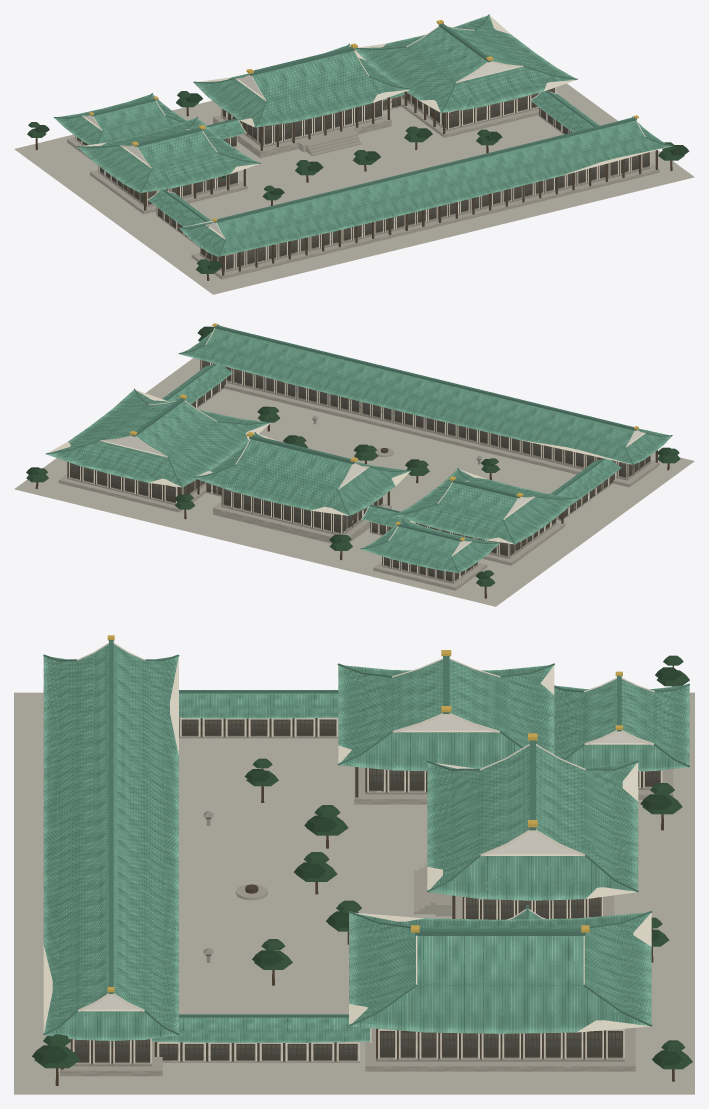
Rendered from imperial_palace_kyuden.glb.
3 views of the same model, one above another, from view 1: azimuth 30°, elevation 25°; view 2: azimuth 150°, elevation 25°; view 3: azimuth 270°, elevation 25° (orthographic). The views are drawn at different scales.
Parts seen in each view (by area): view 1: imperial_palace_kyuden; view 2: imperial_palace_kyuden; view 3: imperial_palace_kyuden.
Boxes of the visible parts, x1=… form: imperial_palace_kyuden: x1=14, y1=14, x2=694, y2=294; imperial_palace_kyuden: x1=14, y1=323, x2=694, y2=606; imperial_palace_kyuden: x1=14, y1=635, x2=694, y2=1094.
Size of the model in its own units: 177 by 23.6 by 126.
Materials: 2 (2 with a texture image).
